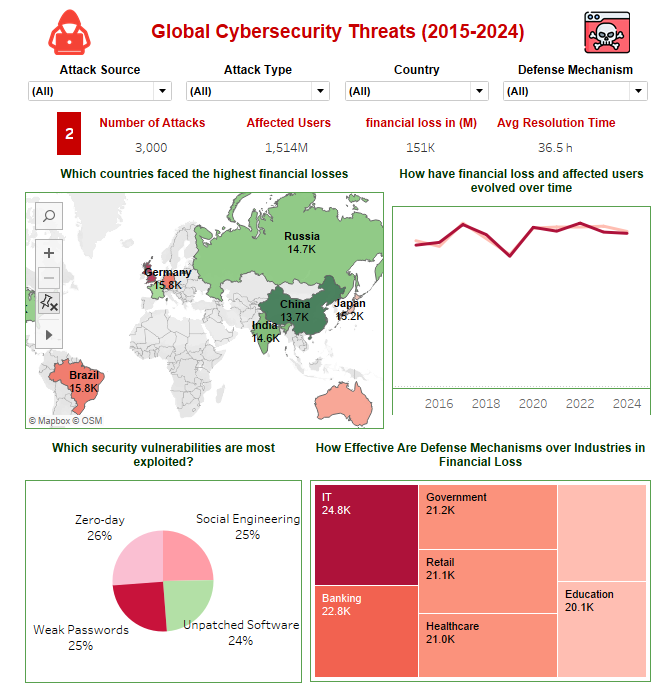

What the dashboard file says about the page in this screenshot:
{"tool":"tableau","page":{"name":"Dashboard 2","canvas":[650,860],"ordinal":0},"visuals":[{"type":"image","param":"Image/hacker.png","box":[8,12.3,96,82.9]},{"type":"title","box":[104,12.3,442,82.9]},{"type":"image","param":"Image/malware.png","box":[546,12.3,96,82.9]},{"type":"filter","title":"Total Number of Attacks","param":"[federated.1k61nbv0u52odv16lgdz61ymnogl].[none:Attack Source:nk]","box":[8,95.2,158.5,75.2]},{"type":"filter","title":"Total Number of Attacks","param":"[federated.1k61nbv0u52odv16lgdz61ymnogl].[none:Attack Type:nk]","box":[166.5,95.2,158.5,75.2]},{"type":"filter","title":"Total Number of Attacks","param":"[federated.1k61nbv0u52odv16lgdz61ymnogl].[none:Country:nk]","box":[325,95.2,158.5,75.2]},{"type":"filter","title":"Total Number of Attacks","param":"[federated.1k61nbv0u52odv16lgdz61ymnogl].[none:Defense Mechanism Used:nk]","box":[483.5,95.2,158.5,75.2]},{"type":"blank","box":[8,170.5,32,78.3]},{"type":"dashboard-object","box":[40,170.5,32,78.3]},{"type":"worksheet","title":"Total Number of Attacks","mark":"Automatic","box":[72,170.5,134.5,78.3]},{"type":"worksheet","title":"Number of Affected Users","mark":"Automatic","box":[206.5,170.5,134.5,78.3]},{"type":"worksheet","title":"total financial loss in melion","mark":"Automatic","box":[341,170.5,134.5,78.3]},{"type":"worksheet","title":"Average Resolution Time (hrs)","mark":"Automatic","box":[475.5,170.5,134.5,78.3]},{"type":"blank","box":[610,170.5,32,78.3]},{"type":"worksheet","title":"Which countries faced the highest financial losses","mark":"Automatic","box":[8,248.8,367,294.4]},{"type":"worksheet","title":"How have financial loss and affected users evolved from 2015 to 2024","mark":"Automatic","rows":["Financial Loss (in Million $)","Number of Affected Users"],"cols":["Year"],"box":[375,248.8,267,294.4]},{"type":"blank","box":[383,394.7,216,90.6]},{"type":"legend","title":"How have financial loss and affected users evolved from 2015 to 2024","param":"[federated.1k61nbv0u52odv16lgdz61ymnogl].[:Measure Names]","box":[385,396.2,179,89.1]},{"type":"worksheet","title":"Which security vulnerabilities are most exploited?","mark":"Pie","box":[8,543.2,285,304.5]},{"type":"worksheet","title":"How Effective Are Defense Mechanisms over Industries in Financial Loss","mark":"Automatic","box":[293,543.2,349,304.5]}]}

Visuals, with their boxes on the page's 650x860 design canvas (x1, y1, x2, y2). These are canvas units, not pixel positions in the 668x692 screenshot, which may show the page scaled, cropped or inside an application window:
image: pyautogui.locateOnScreen(8, 12, 104, 95)
title: pyautogui.locateOnScreen(104, 12, 546, 95)
image: pyautogui.locateOnScreen(546, 12, 642, 95)
"Total Number of Attacks" filter: pyautogui.locateOnScreen(8, 95, 166, 170)
"Total Number of Attacks" filter: pyautogui.locateOnScreen(166, 95, 325, 170)
"Total Number of Attacks" filter: pyautogui.locateOnScreen(325, 95, 484, 170)
"Total Number of Attacks" filter: pyautogui.locateOnScreen(484, 95, 642, 170)
blank: pyautogui.locateOnScreen(8, 170, 40, 249)
dashboard-object: pyautogui.locateOnScreen(40, 170, 72, 249)
"Total Number of Attacks" worksheet: pyautogui.locateOnScreen(72, 170, 206, 249)
"Number of Affected Users" worksheet: pyautogui.locateOnScreen(206, 170, 341, 249)
"total financial loss in melion" worksheet: pyautogui.locateOnScreen(341, 170, 476, 249)
"Average Resolution Time (hrs)" worksheet: pyautogui.locateOnScreen(476, 170, 610, 249)
blank: pyautogui.locateOnScreen(610, 170, 642, 249)
"Which countries faced the highest financial losses" worksheet: pyautogui.locateOnScreen(8, 249, 375, 543)
"How have financial loss and affected users evolved from 2015 to 2024" worksheet: pyautogui.locateOnScreen(375, 249, 642, 543)
blank: pyautogui.locateOnScreen(383, 395, 599, 485)
"How have financial loss and affected users evolved from 2015 to 2024" legend: pyautogui.locateOnScreen(385, 396, 564, 485)
"Which security vulnerabilities are most exploited?" worksheet (Pie marks): pyautogui.locateOnScreen(8, 543, 293, 848)
"How Effective Are Defense Mechanisms over Industries in Financial Loss" worksheet: pyautogui.locateOnScreen(293, 543, 642, 848)
